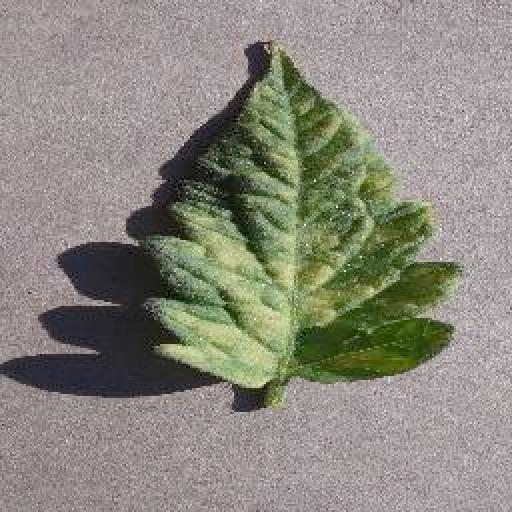disease_tomato: (147, 40, 464, 386)
